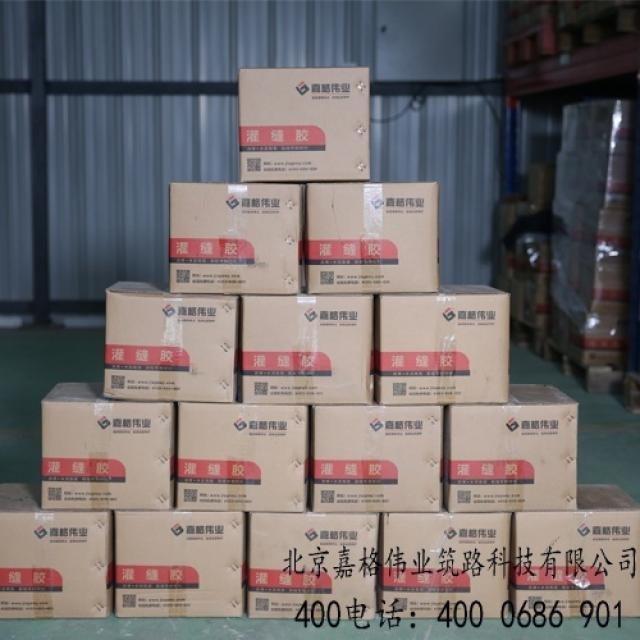box: (510, 482, 639, 617), (446, 381, 579, 509), (42, 380, 174, 508), (104, 280, 241, 401), (376, 284, 512, 404), (0, 483, 115, 618), (239, 293, 377, 404), (173, 400, 311, 510), (304, 183, 439, 295), (169, 182, 304, 293), (239, 68, 370, 182), (376, 509, 514, 616), (114, 509, 248, 619), (310, 403, 447, 509), (247, 509, 378, 619)
